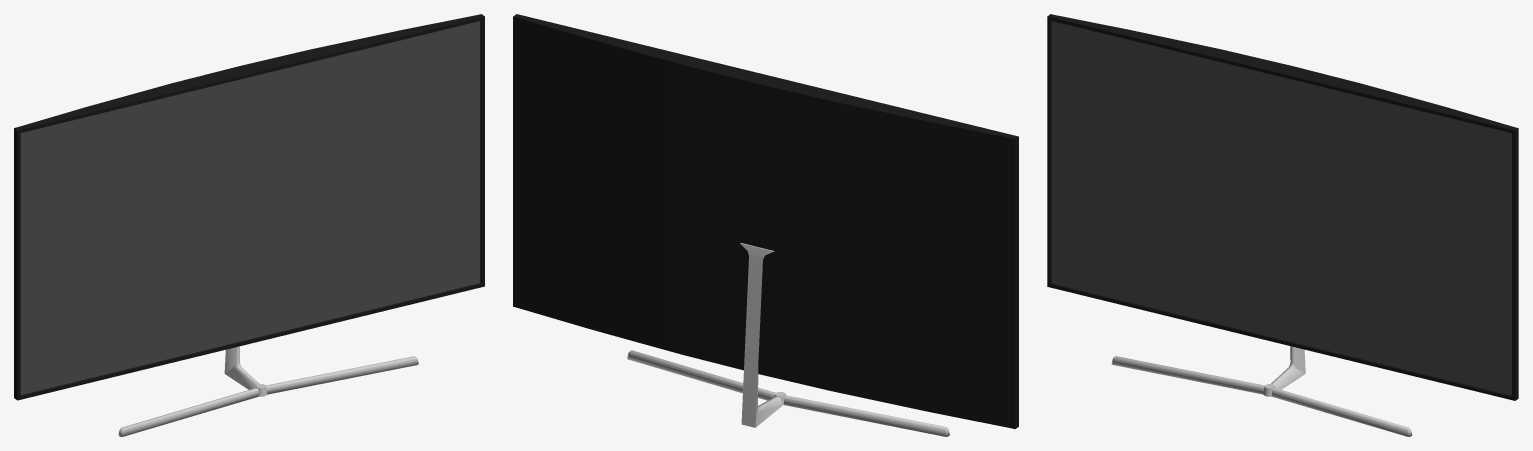
The picture shows the model from 3 angles, left to right: view 1: azimuth 30°, elevation 25°; view 2: azimuth 150°, elevation 25°; view 3: azimuth 330°, elevation 25°; orthographic projection. The views are drawn at different scales.
Parts seen in each view (by area): view 1: Screen_01, Unit_01, Stand_01; view 2: Unit_01, Stand_01; view 3: Screen_01, Unit_01, Stand_01.
Boxes of the visible parts, left/top/right/bottom form: Screen_01: left=20, top=21, right=480, bottom=394; Unit_01: left=14, top=14, right=484, bottom=400; Stand_01: left=118, top=346, right=418, bottom=436; Unit_01: left=513, top=14, right=1018, bottom=428; Stand_01: left=627, top=243, right=949, bottom=436; Screen_01: left=1051, top=21, right=1511, bottom=395; Unit_01: left=1047, top=14, right=1518, bottom=400; Stand_01: left=1111, top=346, right=1412, bottom=436.
Bounding box in the file's own units: 39.37 × 25.15 × 5.71.
